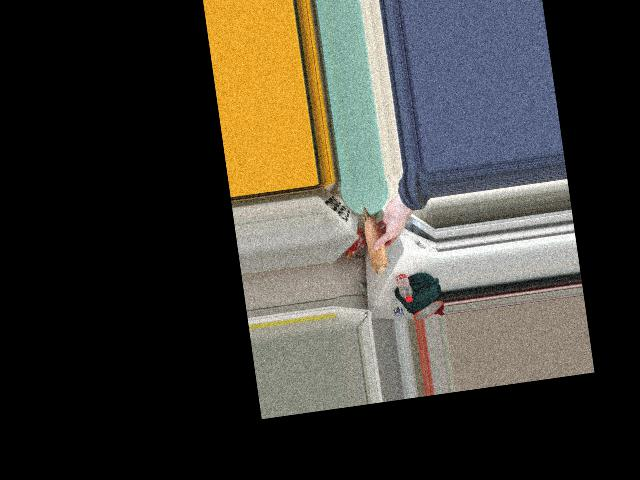sweet_potato: (357, 205, 393, 278)
